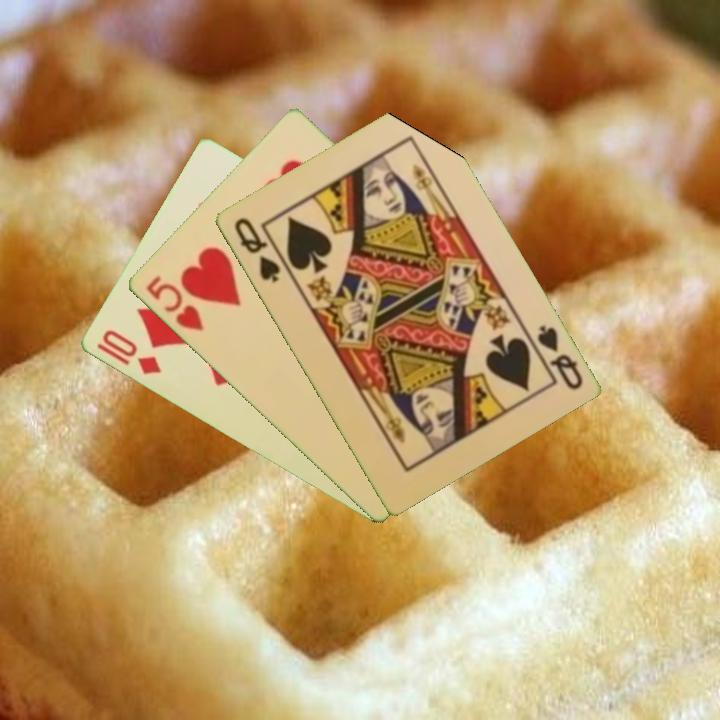10d: (98, 326, 164, 378)
5h: (141, 272, 207, 335)
Qs: (523, 321, 586, 393), (230, 213, 283, 286)
